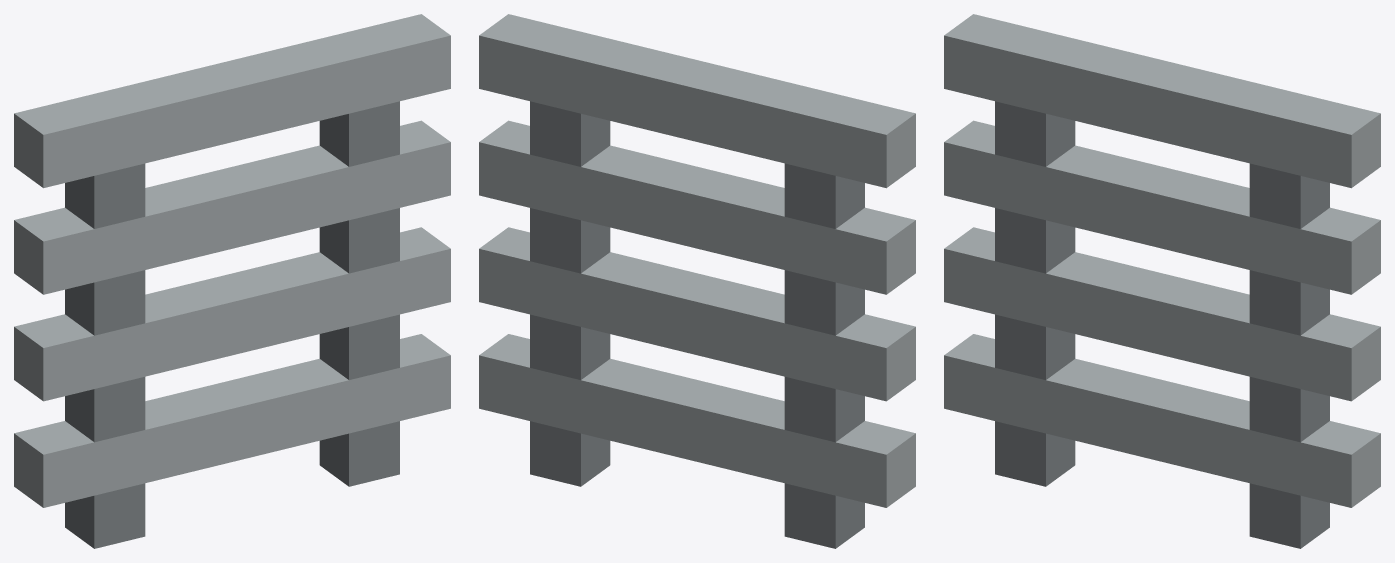
File: Iron Ladder.glb
3 renders of one model, left to right at view 1: azimuth 30°, elevation 25°; view 2: azimuth 150°, elevation 25°; view 3: azimuth 330°, elevation 25°, orthographic.
Parts seen in each view (by area): view 1: generated(Clone); view 2: generated(Clone); view 3: generated(Clone).
Boxes of the visible parts, x1=… form: generated(Clone): x1=14, y1=14, x2=450, y2=548; generated(Clone): x1=479, y1=14, x2=915, y2=548; generated(Clone): x1=944, y1=14, x2=1380, y2=548.
Bounding box in the file's own units: 8 × 8 × 1.
1 material, 1 textured.
